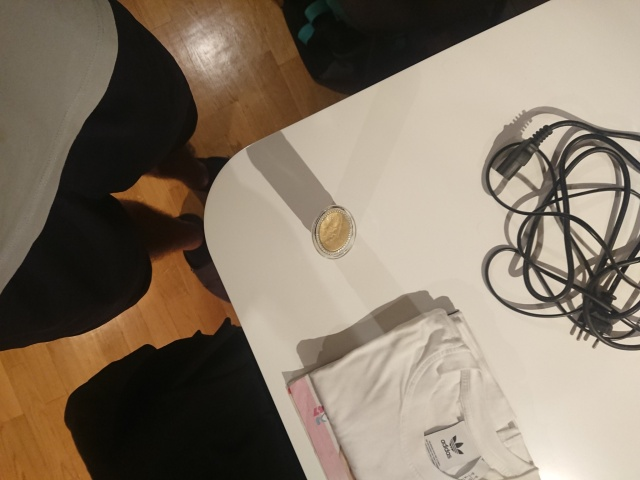Kotanyi Garlic Granules 70g: (309, 202, 358, 262)
